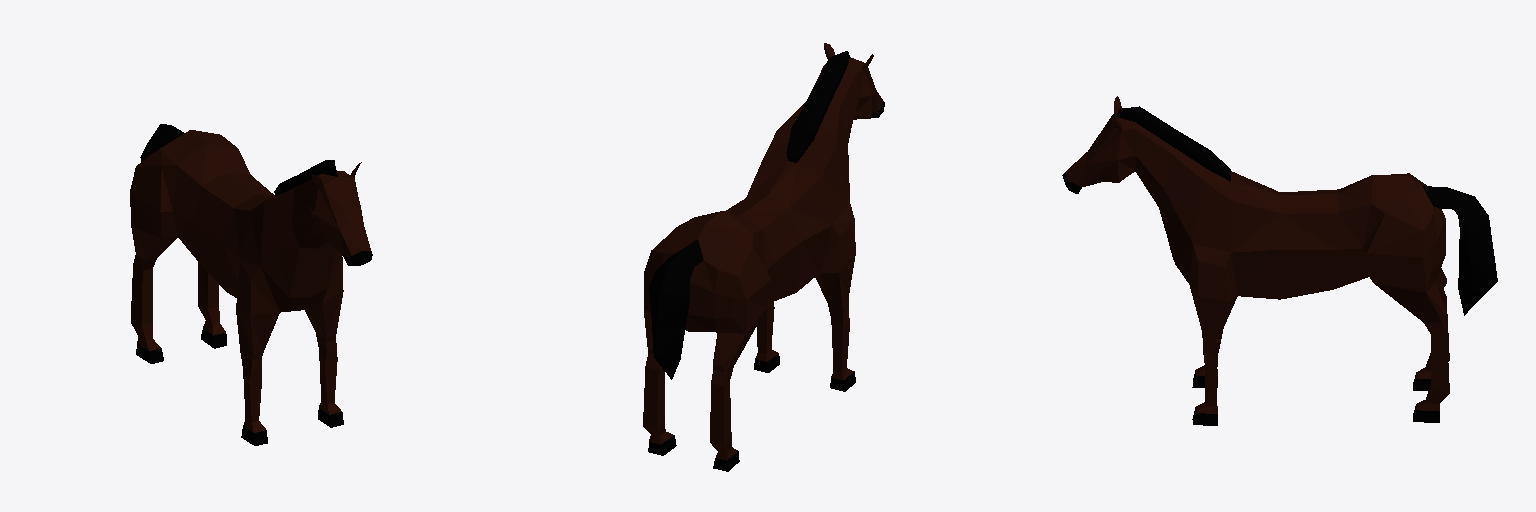
File: Horse.obj
3 renders of one model, left to right at view 1: azimuth 30°, elevation 25°; view 2: azimuth 150°, elevation 25°; view 3: azimuth 270°, elevation 25°, orthographic.
Visible parts, largest first — view 1: Horse_Cylinder; view 2: Horse_Cylinder; view 3: Horse_Cylinder.
Part boxes in pixels (bbox=[...]): Horse_Cylinder: bbox=[130, 124, 372, 445]; Horse_Cylinder: bbox=[643, 43, 884, 471]; Horse_Cylinder: bbox=[1062, 96, 1497, 425].
Size of the model in its own units: 2.56 by 6.91 by 9.24.